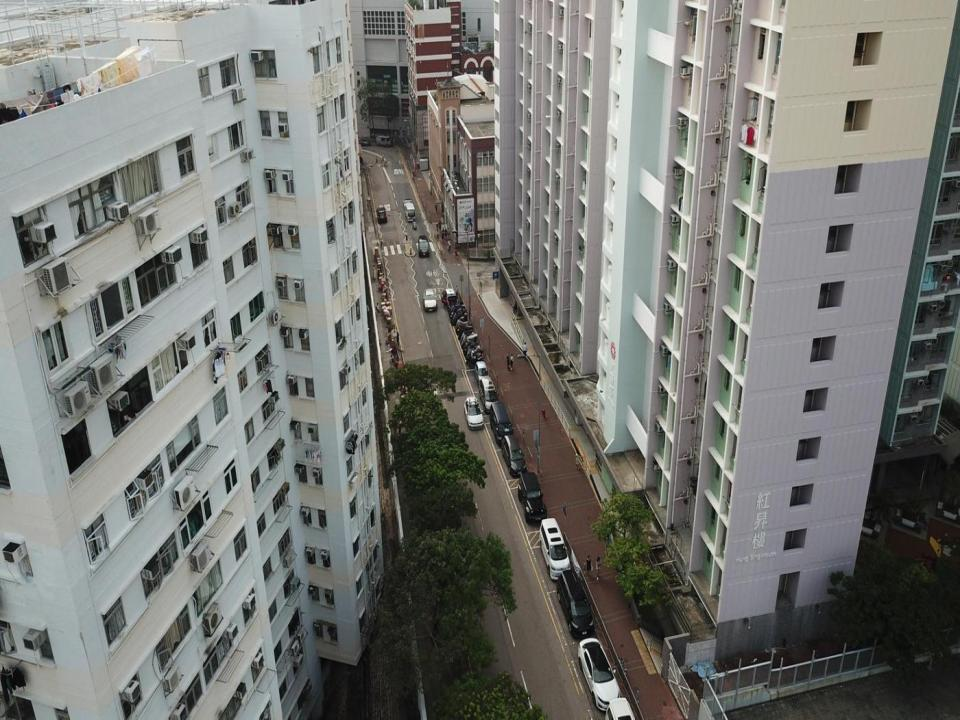car: (578, 635, 620, 712), (464, 396, 485, 430), (422, 287, 438, 312), (475, 361, 488, 385), (442, 288, 455, 307), (376, 206, 387, 223), (354, 139, 371, 146)
truck: (404, 198, 416, 222)
van: (556, 569, 594, 639), (538, 517, 571, 580), (518, 472, 546, 526), (501, 434, 527, 479), (489, 402, 514, 447), (478, 377, 499, 415), (604, 697, 637, 719), (418, 234, 430, 257), (376, 135, 394, 147)
